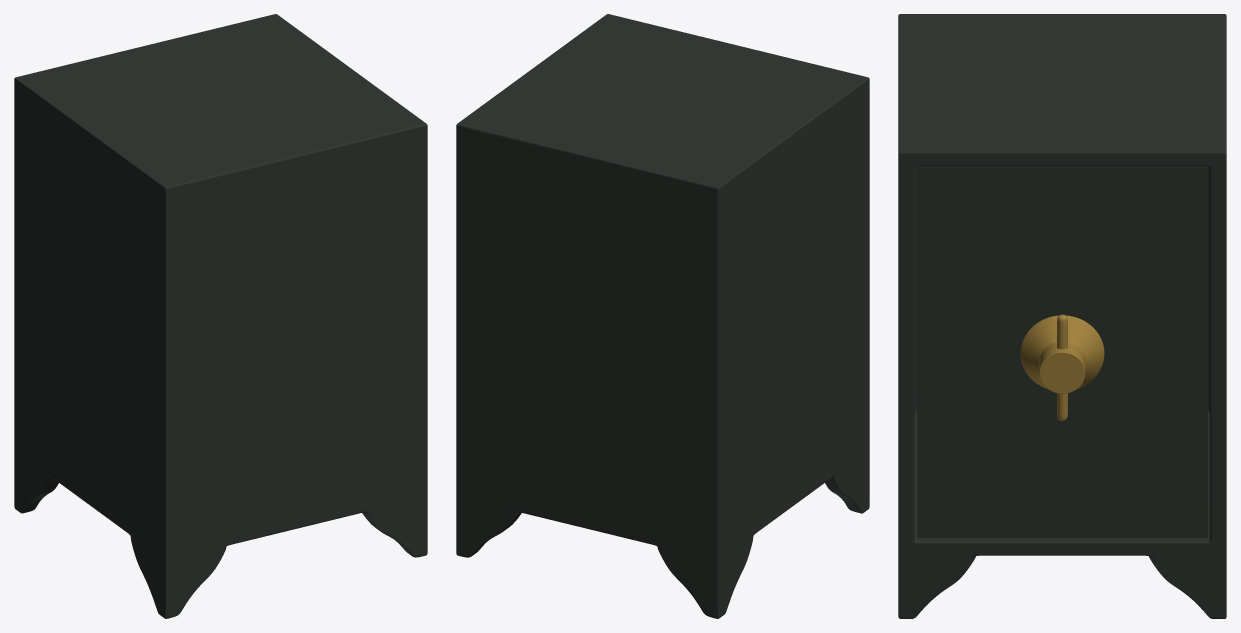
Rendered from Safe.fbx.
3 renders of one model, left to right at view 1: azimuth 30°, elevation 25°; view 2: azimuth 150°, elevation 25°; view 3: azimuth 270°, elevation 25°, orthographic. The views are drawn at different scales.
Parts seen in each view (by area): view 1: Safe Body; view 2: Safe Body; view 3: Safe Door, Safe Body, Lock.
Boxes of the visible parts, x1,y1,x2,y2 form: Safe Body: (14, 14, 427, 618); Safe Body: (456, 14, 869, 618); Safe Door: (917, 166, 1207, 537); Safe Body: (898, 14, 1226, 618); Lock: (1020, 314, 1104, 420).
Bounding box in the file's own units: 114 × 157 × 100.
